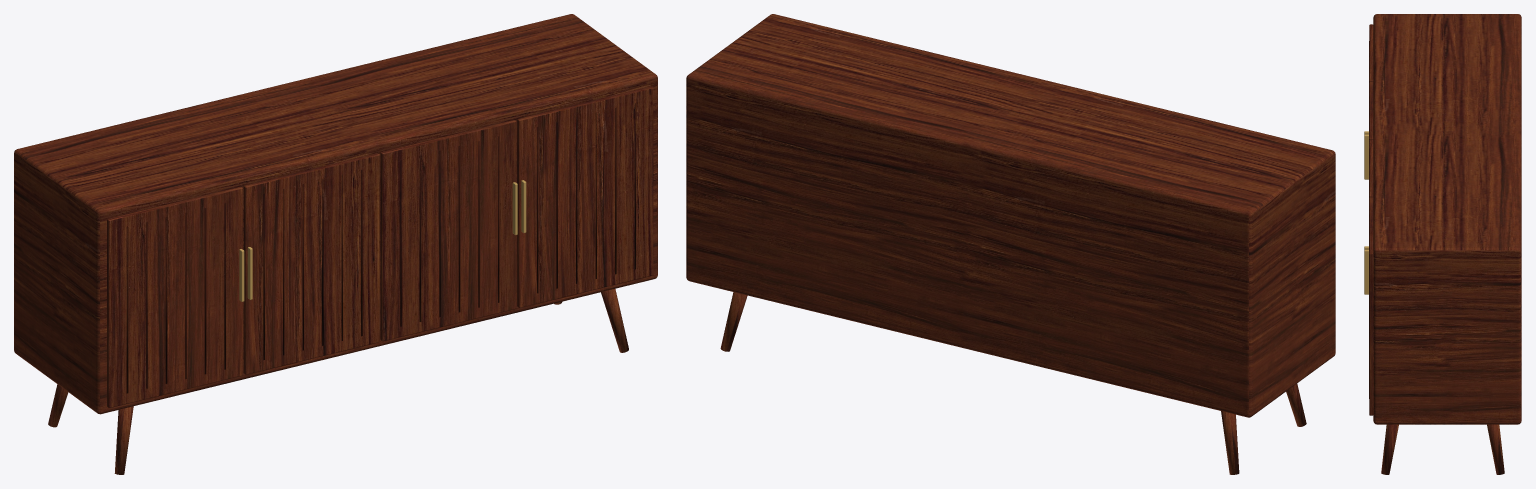
3 renders of one model, left to right at view 1: azimuth 30°, elevation 25°; view 2: azimuth 150°, elevation 25°; view 3: azimuth 270°, elevation 25°, orthographic. The views are drawn at different scales.
Parts seen in each view (by area): view 1: Carcass, Door 3, Door 1, Door 4, Door 2, Tapered leg LF, Tapered leg RF; view 2: Carcass, Tapered leg LB, Tapered leg RB; view 3: Carcass, Door 4, Tapered leg RB, Tapered leg RF, Door 3, Door 2, Door 1, Brass pull 2, Brass pull 4.
Part boxes in pixels (x1,y1,x2,y2): Carcass: [14, 14, 657, 414]; Door 3: [380, 120, 516, 341]; Door 1: [107, 186, 242, 408]; Door 4: [517, 86, 653, 307]; Door 2: [243, 153, 379, 374]; Tapered leg LF: [114, 406, 133, 474]; Tapered leg RF: [601, 289, 628, 352]; Carcass: [686, 14, 1335, 417]; Tapered leg LB: [1221, 411, 1239, 474]; Tapered leg RB: [720, 292, 747, 351]; Carcass: [1373, 14, 1521, 424]; Door 4: [1369, 197, 1373, 415]; Tapered leg RB: [1487, 424, 1504, 474]; Tapered leg RF: [1381, 424, 1398, 474]; Door 3: [1369, 139, 1373, 197]; Door 2: [1369, 82, 1373, 139]; Door 1: [1369, 24, 1373, 82]; Brass pull 2: [1364, 134, 1368, 179]; Brass pull 4: [1364, 250, 1368, 294].
Bounding box in the file's own units: 1.6 × 0.75 × 0.45.
Materials: 3 (2 with a texture image).
